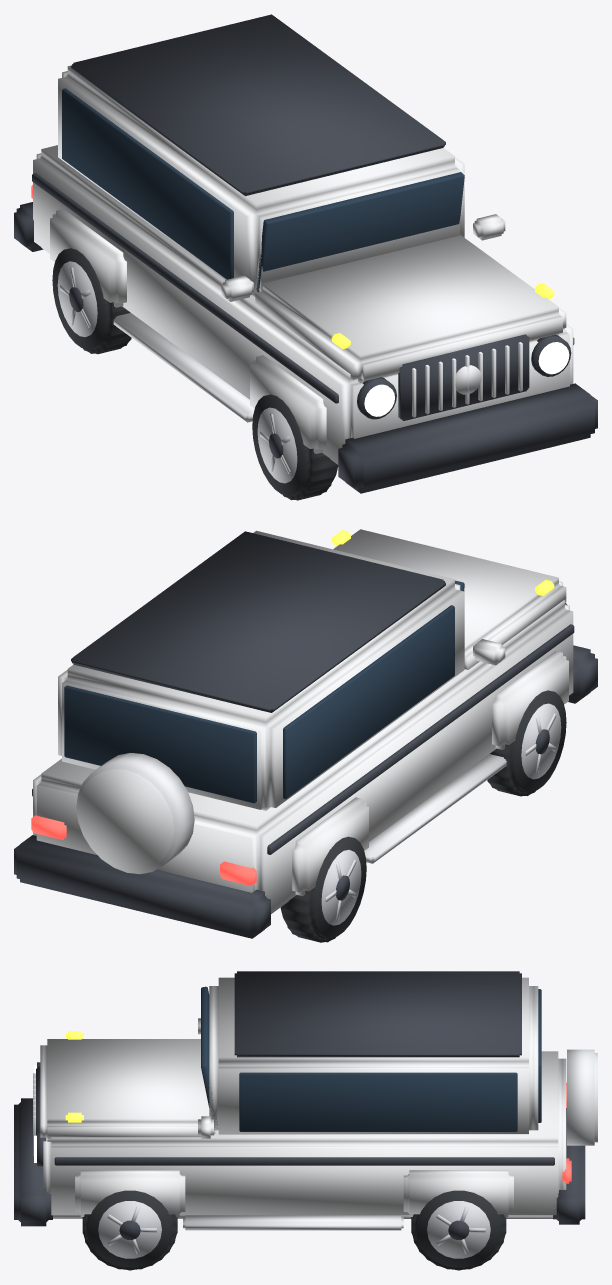
The model's file is suv_gwagon.glb.
The picture shows the model from 3 angles, top to bottom: view 1: azimuth 30°, elevation 25°; view 2: azimuth 150°, elevation 25°; view 3: azimuth 270°, elevation 25°; orthographic projection. The views are drawn at different scales.
Parts seen in each view (by area): view 1: body_roof_rack, body_hood, body_main, body_cabin, front_bumper, glass_side_l, glass_front, grille_frame, side_molding_-1, fender_r_-1, fender_f_-1, running_board_-1 (+10 smaller); view 2: body_roof_rack, body_main, body_cabin, glass_rear, glass_side_l, rear_bumper, body_hood, spare_cover, side_molding_-1, spare_ring, fender_f_-1, fender_r_-1 (+9 smaller); view 3: body_main, body_roof_rack, glass_side_r, body_hood, body_cabin, side_molding_1, fender_f_1, fender_r_1, running_board_1, front_bumper, wheel_fl_tire, wheel_rl_tire (+6 smaller).
Boxes of the visible parts, x1,y1,x2,y2 form: body_roof_rack: (71, 14, 445, 196); body_hood: (255, 235, 566, 382); body_main: (33, 145, 573, 464); body_cabin: (58, 65, 464, 296); front_bumper: (338, 383, 597, 493); glass_side_l: (62, 88, 233, 279); glass_front: (256, 172, 464, 292); grille_frame: (398, 334, 529, 420); side_molding_-1: (32, 173, 338, 403); fender_r_-1: (50, 209, 126, 307); fender_f_-1: (250, 355, 326, 453); running_board_-1: (113, 313, 254, 422); body_roof_rack: (71, 531, 445, 712); body_main: (33, 600, 573, 913); body_cabin: (58, 530, 464, 810); glass_rear: (64, 685, 256, 803); glass_side_l: (283, 605, 454, 799); rear_bumper: (14, 835, 270, 938); body_hood: (333, 529, 566, 669); spare_cover: (78, 769, 174, 871); side_molding_-1: (267, 624, 574, 854); spare_ring: (76, 753, 194, 874); fender_f_-1: (492, 651, 568, 749); fender_r_-1: (292, 797, 368, 895); body_main: (43, 1051, 566, 1218); body_roof_rack: (234, 971, 521, 1057); glass_side_r: (239, 1072, 517, 1131); body_hood: (40, 1039, 215, 1141); body_cabin: (209, 977, 538, 1134); side_molding_1: (54, 1157, 554, 1165); fender_f_1: (75, 1170, 185, 1216); fender_r_1: (403, 1170, 513, 1216); running_board_1: (183, 1215, 403, 1230); front_bumper: (14, 1098, 52, 1226); wheel_fl_tire: (82, 1190, 177, 1270); wheel_rl_tire: (411, 1190, 506, 1270).
Size of the model in its own units: 2.3 by 2.01 by 5.08.
